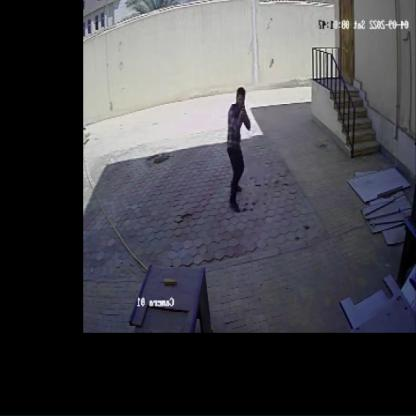handgun: (238, 95, 246, 119)
